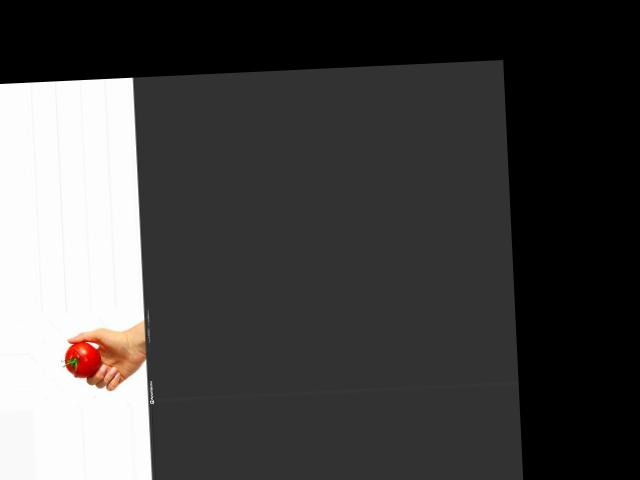tomato: (63, 341, 101, 377)
